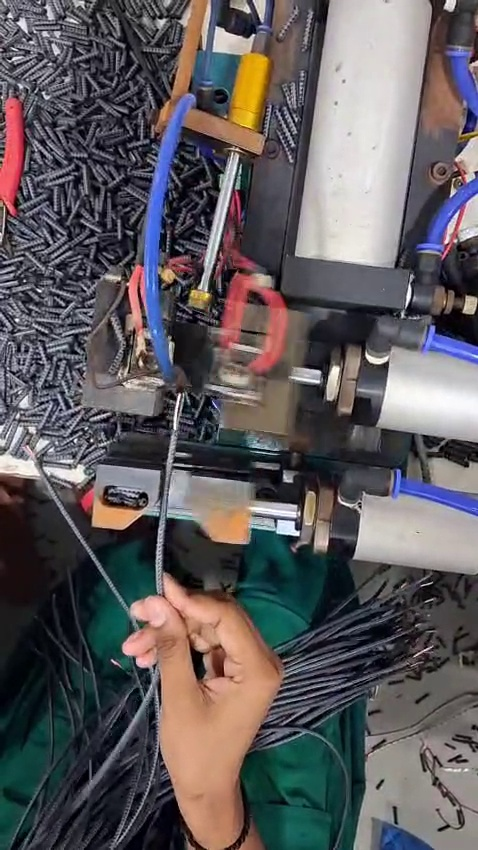machine: (82, 254, 309, 563)
peeled_wire: (143, 373, 203, 498)
